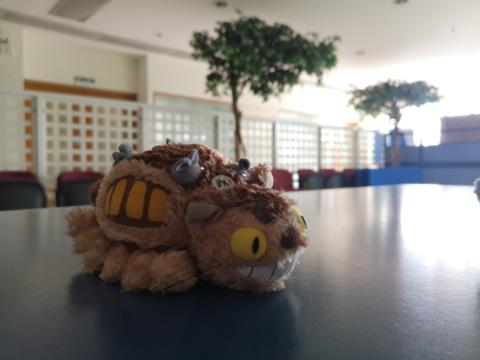nekobus: (63, 137, 315, 301)
